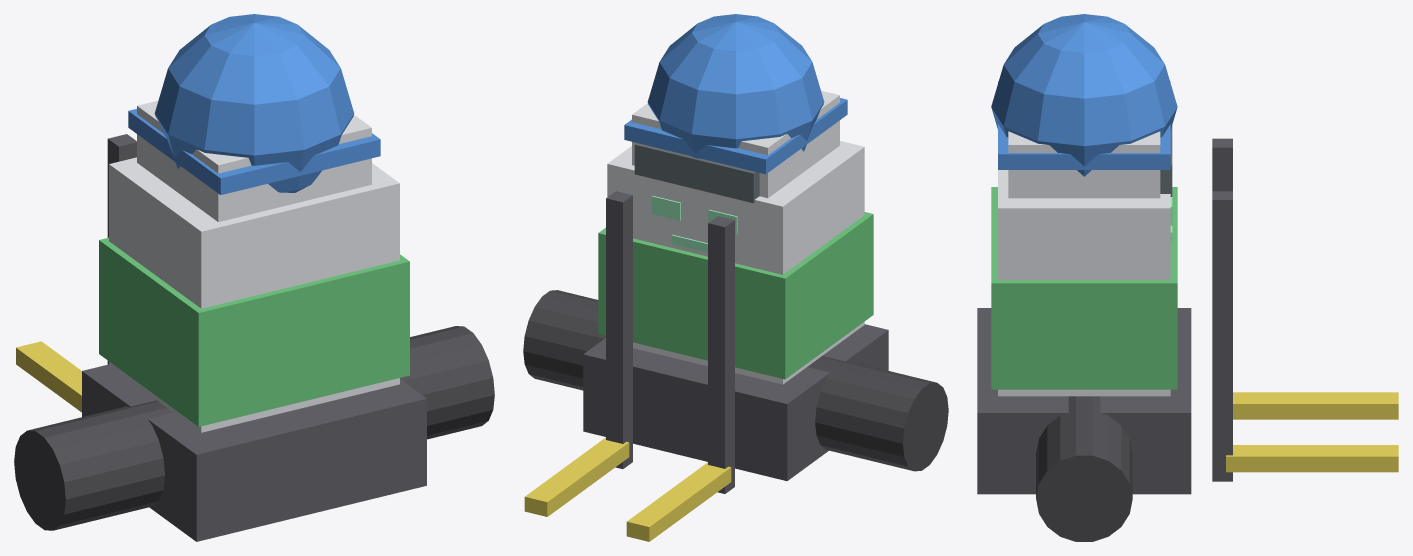
The model's file is ForkliftBot.glb.
The picture shows the model from 3 angles, left to right: view 1: azimuth 30°, elevation 25°; view 2: azimuth 150°, elevation 25°; view 3: azimuth 270°, elevation 25°; orthographic projection. The views are drawn at different scales.
Visible parts, largest first — view 1: Vest, Base, Torso, Hardhat, TrackL, Head, TrackR, HatBrim, ForkL, MastL; view 2: Vest, Base, Hardhat, Torso, TrackL, MastL, MastR, TrackR, Goggles, HatBrim, Head, ForkR (+2 smaller); view 3: Vest, Hardhat, Base, Torso, TrackR, MastR, Head, ForkR, ForkL, HatBrim, MastL.
Boxes of the visible parts, x1,y1,x2,y2 form: Vest: [99, 237, 409, 426]; Base: [82, 364, 426, 541]; Torso: [109, 157, 399, 432]; Hardhat: [154, 14, 354, 192]; TrackL: [14, 400, 173, 530]; Head: [137, 100, 371, 221]; TrackR: [400, 326, 494, 439]; HatBrim: [128, 109, 380, 194]; ForkL: [16, 341, 81, 412]; MastL: [107, 134, 136, 364]; Vest: [598, 212, 873, 379]; Base: [583, 324, 888, 480]; Hardhat: [647, 14, 824, 158]; Torso: [607, 141, 864, 384]; TrackL: [807, 356, 948, 471]; MastL: [708, 216, 734, 493]; MastR: [606, 191, 632, 468]; TrackR: [523, 290, 605, 390]; Goggles: [634, 143, 759, 203]; HatBrim: [624, 98, 847, 174]; Head: [632, 90, 839, 198]; ForkR: [524, 437, 629, 516]; Vest: [991, 187, 1177, 389]; Hardhat: [991, 14, 1177, 176]; Base: [977, 308, 1191, 494]; Torso: [998, 170, 1170, 396]; TrackR: [1036, 396, 1132, 541]; MastR: [1212, 191, 1232, 481]; Head: [1008, 131, 1160, 198]; ForkR: [1226, 445, 1398, 472]; ForkL: [1233, 392, 1398, 419]; HatBrim: [998, 81, 1170, 169]; MastL: [1212, 138, 1232, 191].
Bounding box in the file's own units: 1.34 × 1.37 × 1.22.
